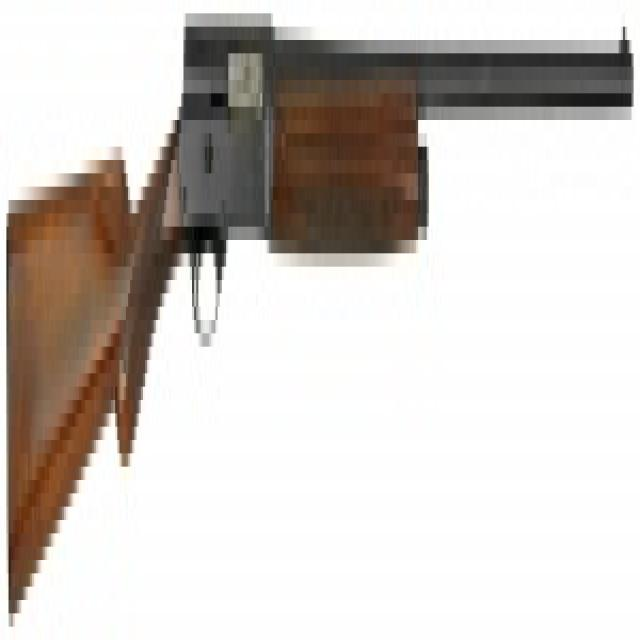rifle: (3, 1, 640, 628)
